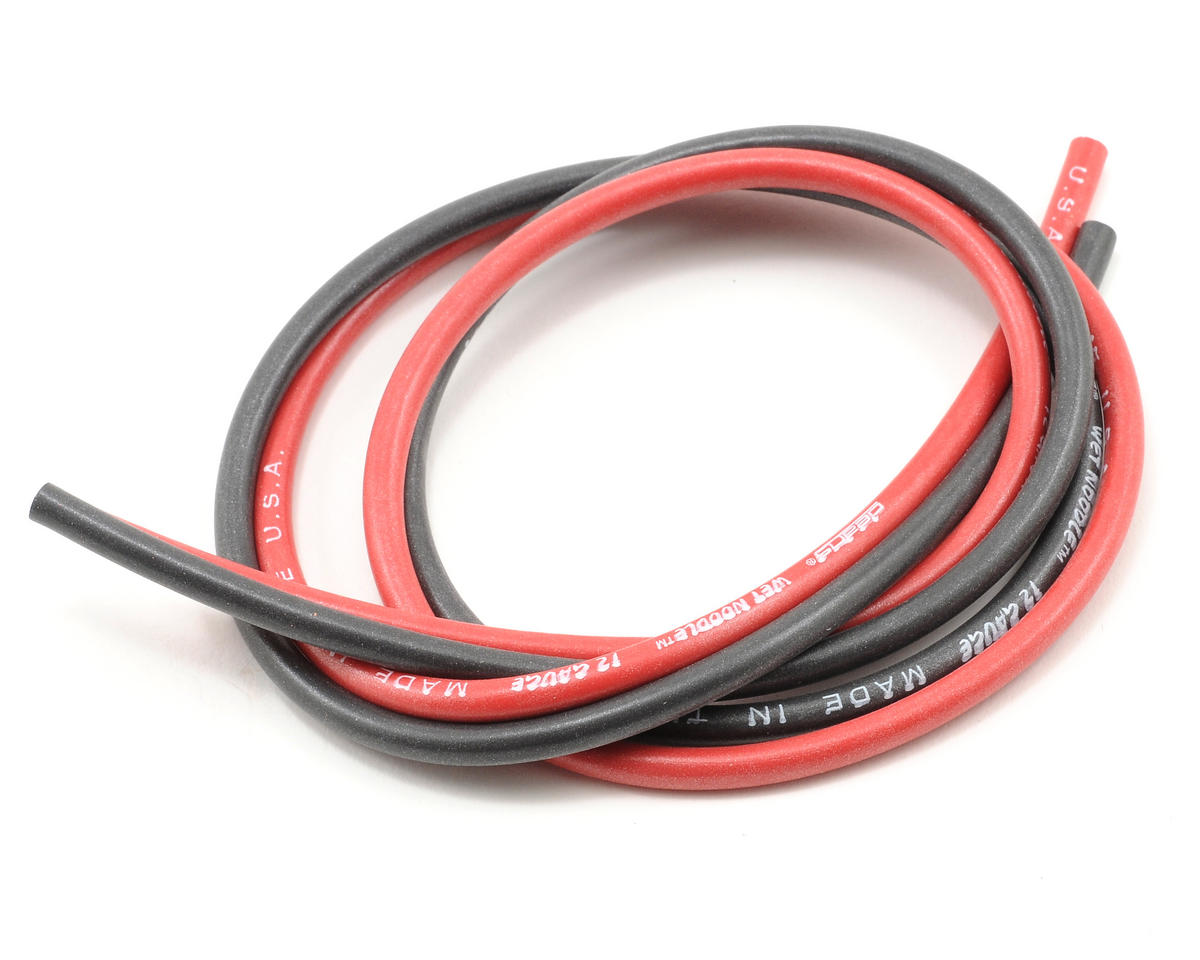Nonrec_Tangler: (78, 90, 1171, 788)
